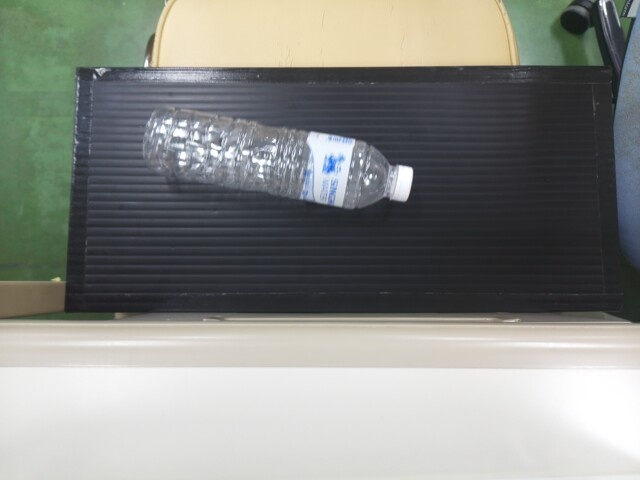plastic_bottle: (136, 112, 414, 211)
